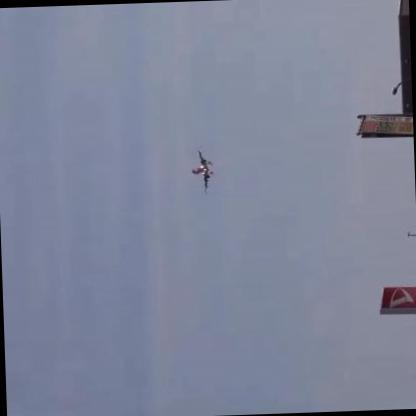plane: (190, 146, 218, 197)
